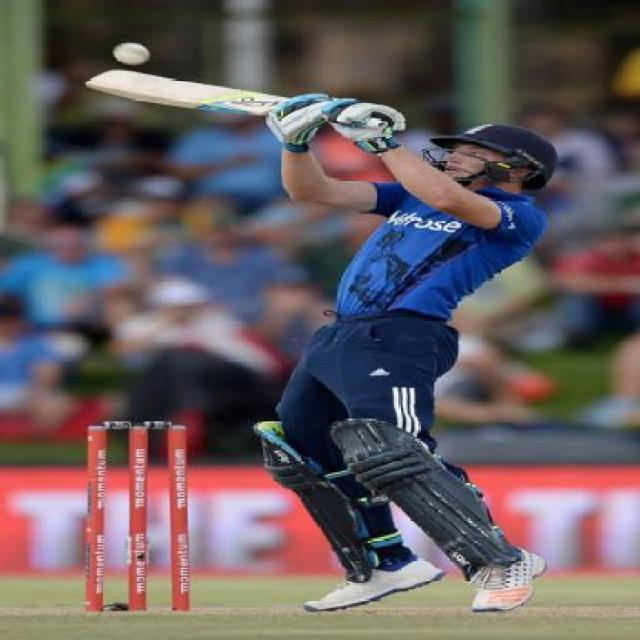ball: (93, 19, 165, 76)
